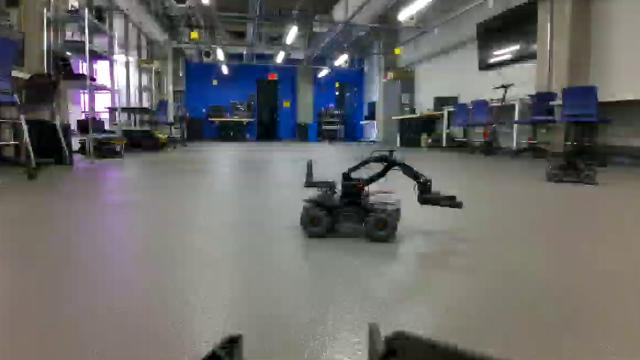robot: (296, 147, 467, 245)
